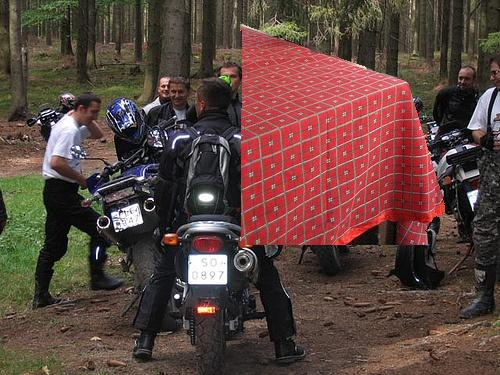tampered: (241, 23, 445, 245)
